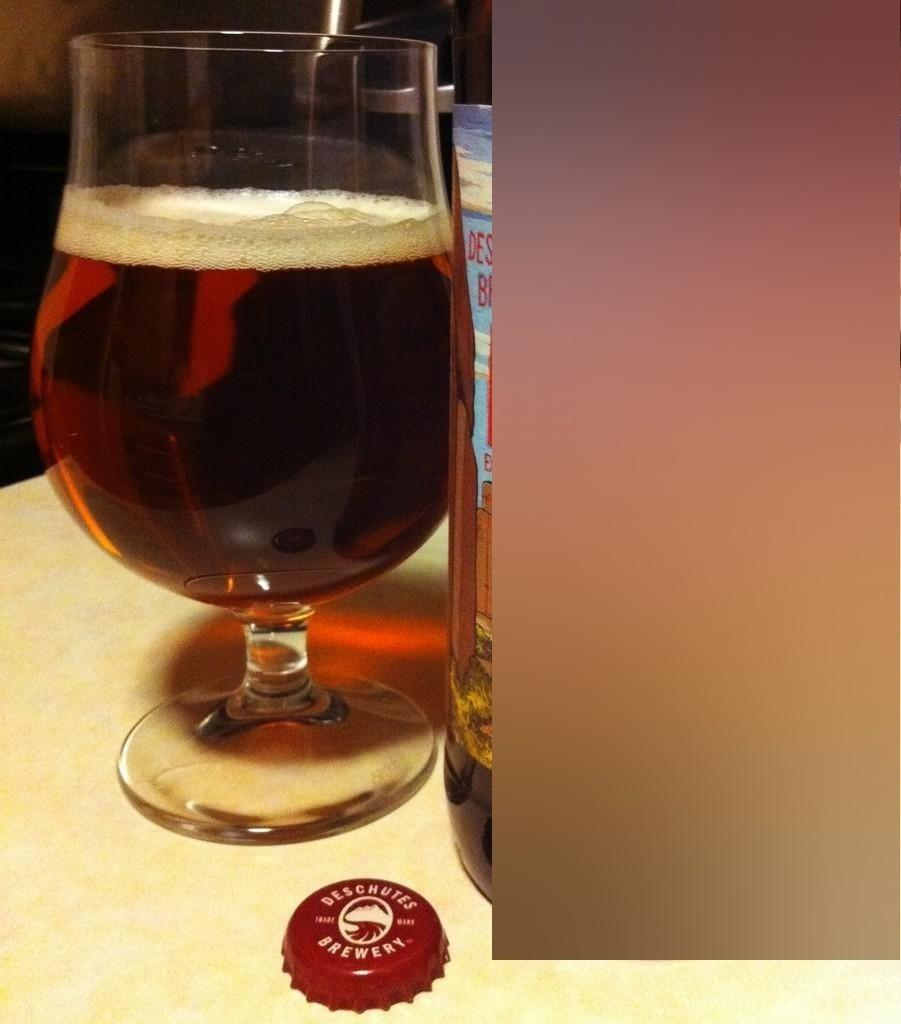glass-wine: (31, 29, 457, 846)
